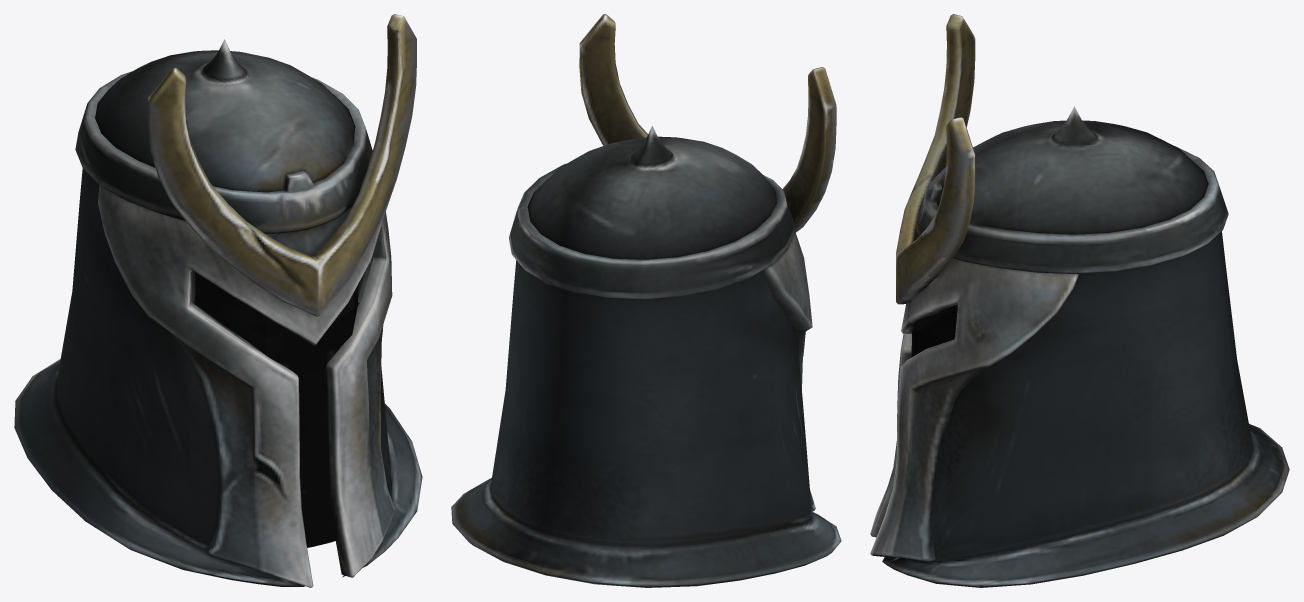
The model's file is sm_void_human_helmet.gltf.
3 views of the same model, side by side, from view 1: azimuth 30°, elevation 25°; view 2: azimuth 150°, elevation 25°; view 3: azimuth 270°, elevation 25° (orthographic). The views are drawn at different scales.
Parts seen in each view (by area): view 1: sm_void_human_helmet; view 2: sm_void_human_helmet; view 3: sm_void_human_helmet.
Part boxes in pixels (box(x1,y1,x2,y2)): sm_void_human_helmet: box(14, 14, 422, 587); sm_void_human_helmet: box(451, 14, 841, 587); sm_void_human_helmet: box(870, 14, 1289, 587).
Bounding box in the file's own units: 0.2637 × 0.3829 × 0.3002.
Materials: 1 (1 with a texture image).
